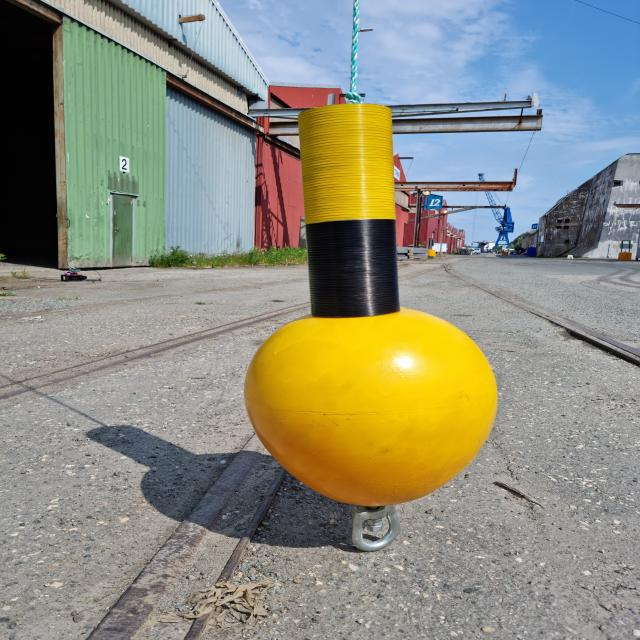west: (245, 103, 502, 508)
